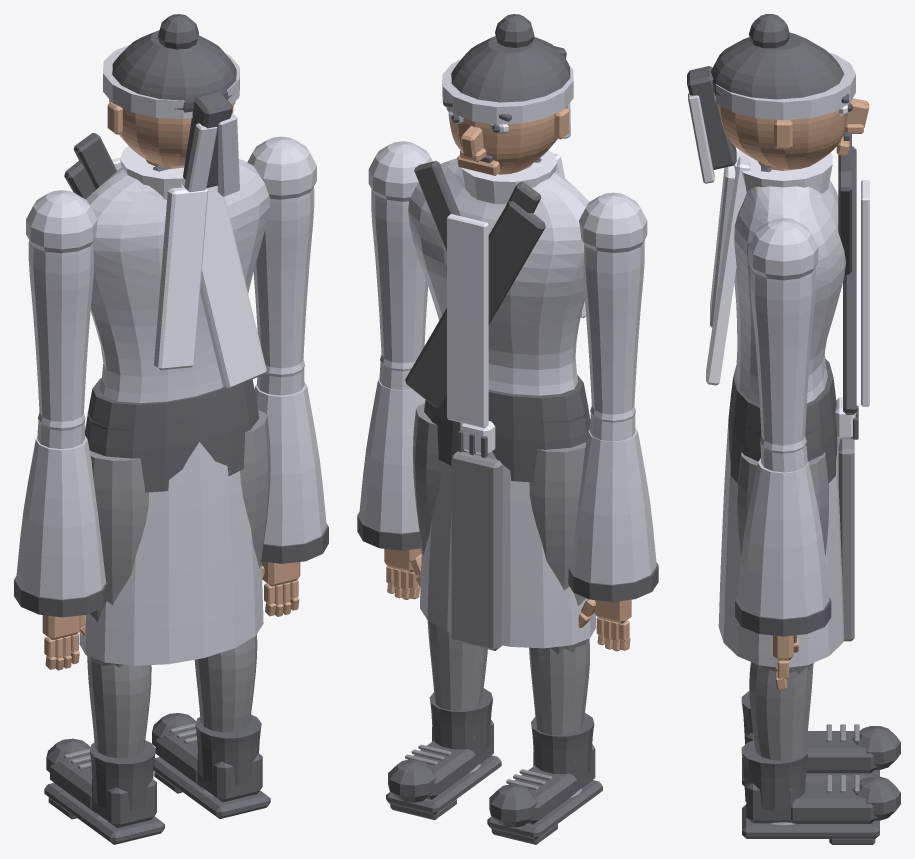
Rendered from rusher.glb.
3 views of the same model, side by side, from view 1: azimuth 30°, elevation 25°; view 2: azimuth 150°, elevation 25°; view 3: azimuth 270°, elevation 25° (orthographic). The views are drawn at different scales.
Parts seen in each view (by area): view 1: Hakama, Torso, Scarf, Hair, Kimono, Sleeve_l, Arm_l, Arm_r, Sleeve_r, Boot_l, Boot_r, Thigh_l (+8 smaller); view 2: Torso, Hakama, Kimono, Sleeve_l, Arm_l, Hair, Arm_r, Boot_l, Boot_r, Sleeve_r, Thigh_l, Head (+8 smaller); view 3: Hair, Sleeve_r, Torso, Arm_r, Boot_r, Hakama, Kimono, Scarf, Head, Shin_r, Boot_l, Thigh_r (+2 smaller).
Part boxes in pixels (box(x1,y1,x2,y2)): Hakama: box(79, 442, 263, 665); Torso: box(86, 157, 269, 430); Scarf: box(120, 146, 266, 388); Hair: box(103, 14, 239, 196); Kimono: box(64, 133, 258, 492); Sleeve_l: box(14, 436, 108, 617); Arm_l: box(26, 190, 97, 421); Arm_r: box(247, 136, 316, 368); Sleeve_r: box(254, 382, 328, 563); Boot_l: box(44, 738, 164, 844); Boot_r: box(152, 713, 270, 818); Thigh_l: box(90, 451, 148, 621); Torso: box(408, 158, 589, 428); Hakama: box(420, 451, 595, 650); Kimono: box(405, 161, 590, 482); Sleeve_l: box(568, 428, 658, 601); Arm_l: box(579, 192, 647, 414); Hair: box(442, 14, 573, 138); Arm_r: box(368, 141, 432, 363); Boot_l: box(487, 713, 602, 844); Boot_r: box(386, 688, 501, 820); Sleeve_r: box(357, 378, 425, 550); Thigh_l: box(529, 442, 586, 606); Head: box(443, 99, 569, 175); Hair: box(687, 14, 855, 183); Sleeve_r: box(735, 458, 831, 636); Torso: box(734, 161, 869, 435); Arm_r: box(748, 218, 818, 445); Boot_r: box(741, 740, 900, 844); Hakama: box(718, 419, 854, 667); Kimono: box(728, 134, 858, 483); Scarf: box(706, 150, 832, 385); Head: box(719, 94, 869, 169); Shin_r: box(749, 662, 813, 825); Boot_l: box(741, 691, 900, 786); Thigh_r: box(737, 452, 828, 556).
Bounding box in the file's own units: 0.7406 × 1.9 × 0.4639.
